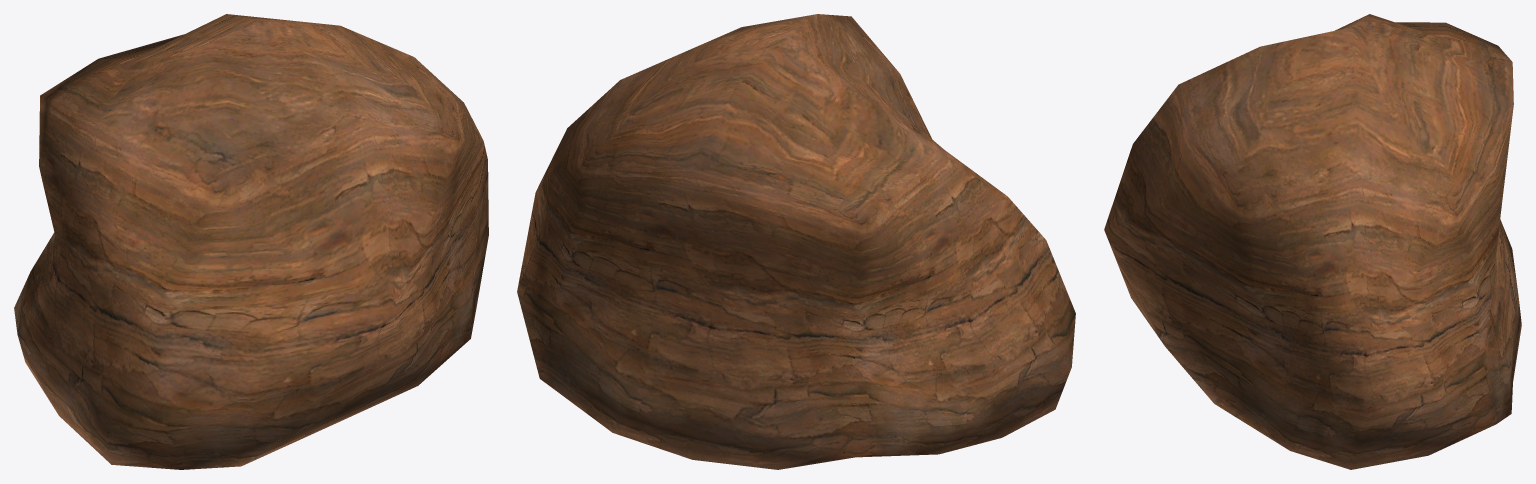
The model's file is rock_tatt_jundland_boulder_a4_l1.fbx.
The picture shows the model from 3 angles, left to right: view 1: azimuth 30°, elevation 25°; view 2: azimuth 150°, elevation 25°; view 3: azimuth 270°, elevation 25°; orthographic projection. The views are drawn at different scales.
Visible parts, largest first — view 1: mesh_node; view 2: mesh_node; view 3: mesh_node.
Boxes of the visible parts, bbox=[...] form: mesh_node: bbox=[14, 14, 488, 469]; mesh_node: bbox=[517, 14, 1075, 469]; mesh_node: bbox=[1104, 14, 1521, 469].
Bounding box in the file's own units: 2.7 × 2.11 × 2.16.
